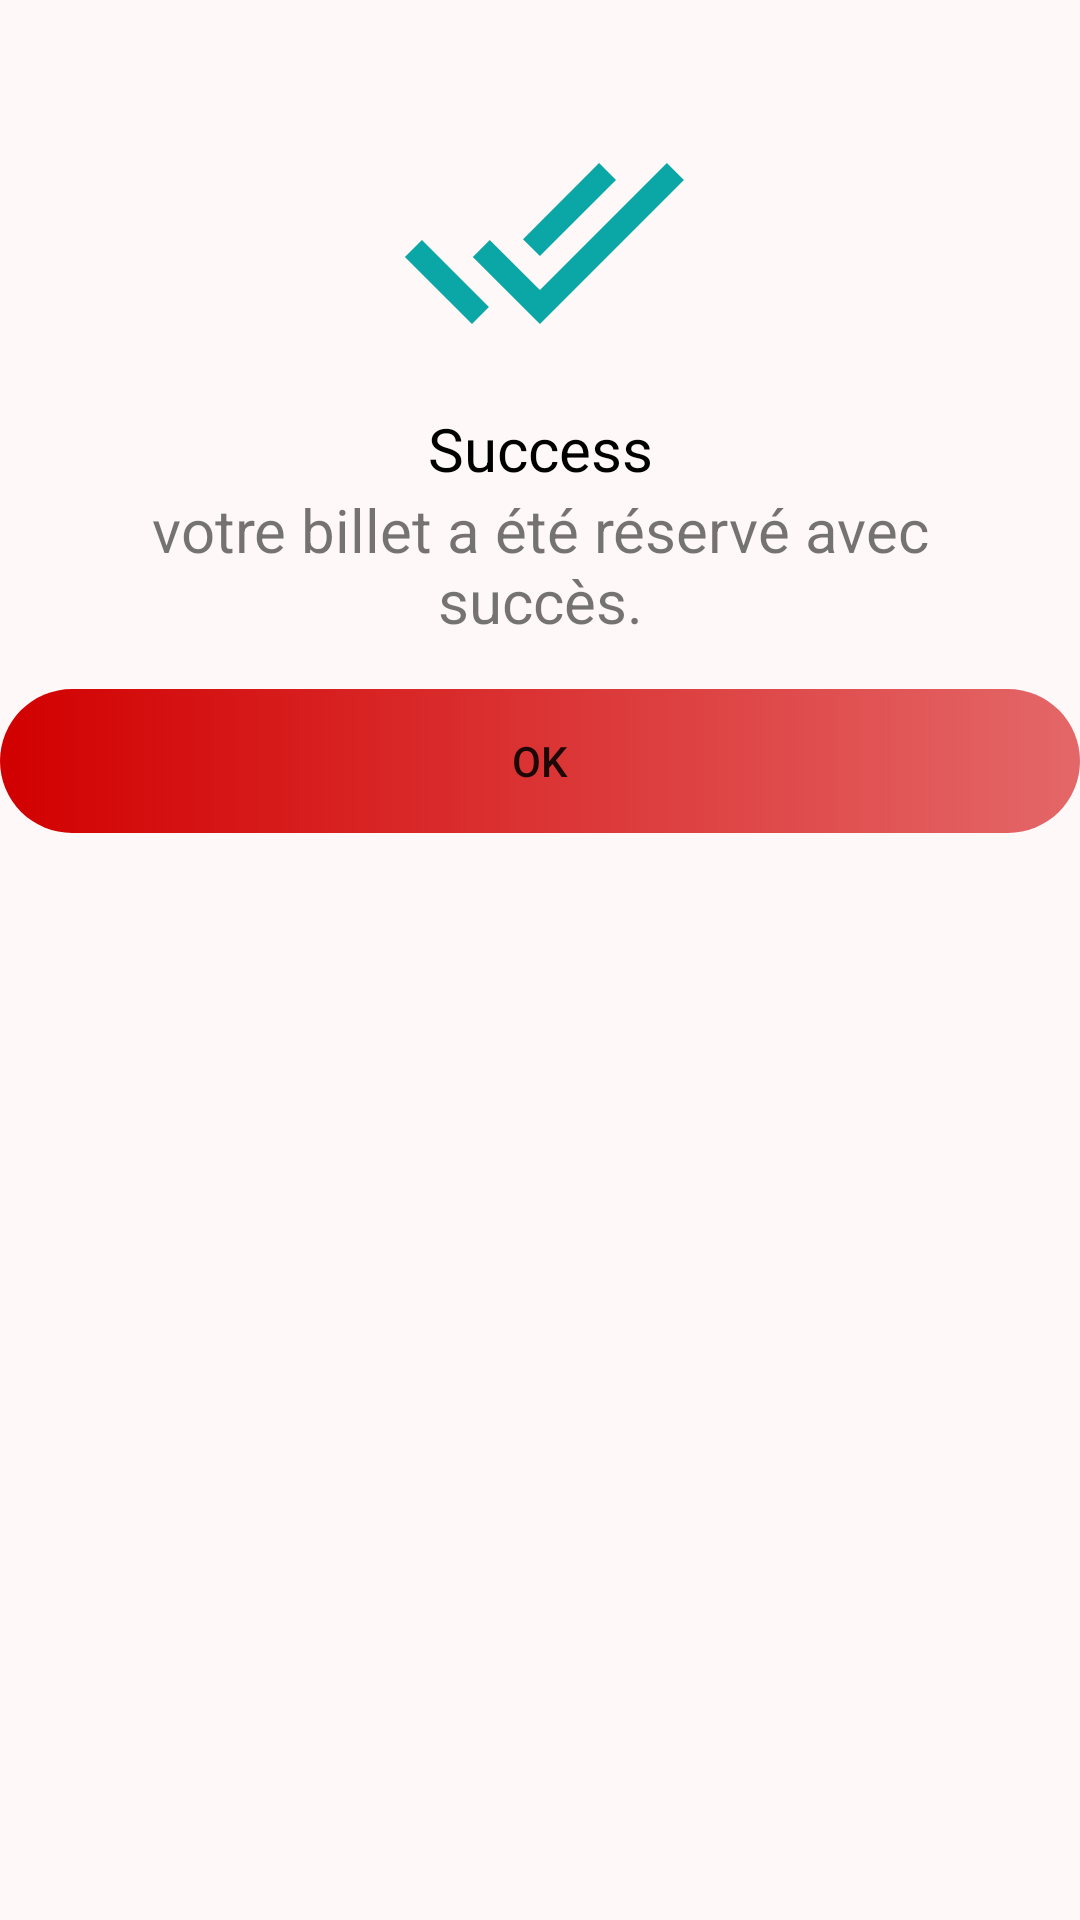

Icon click points for this 1080*1920 phone screenshot, format (x,y):
done: (544,243)
